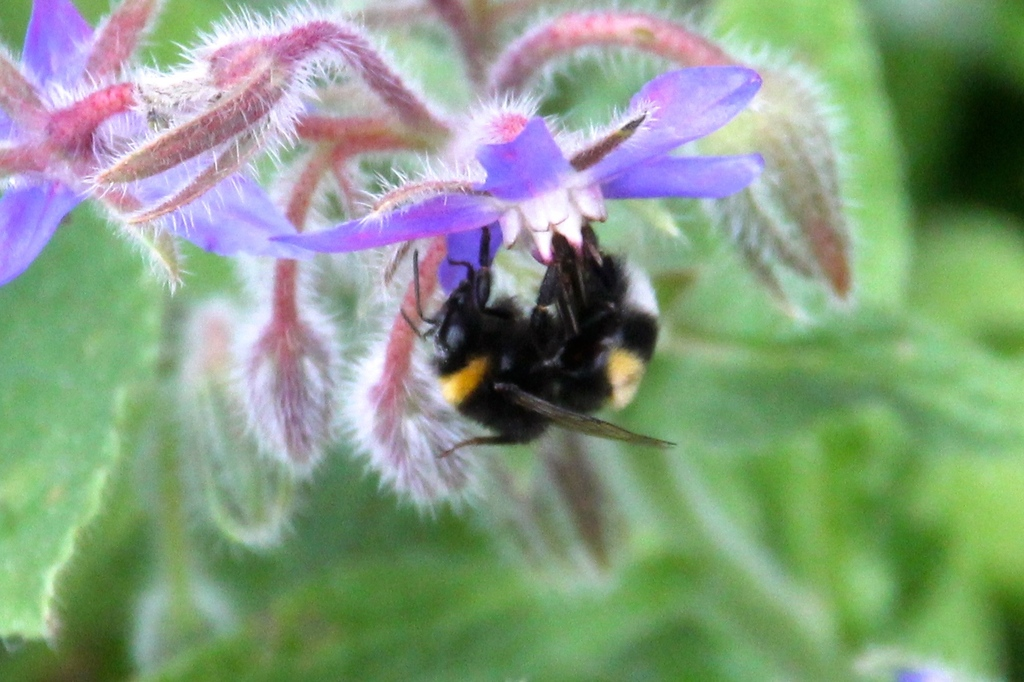bumblebee: (397, 217, 681, 463)
